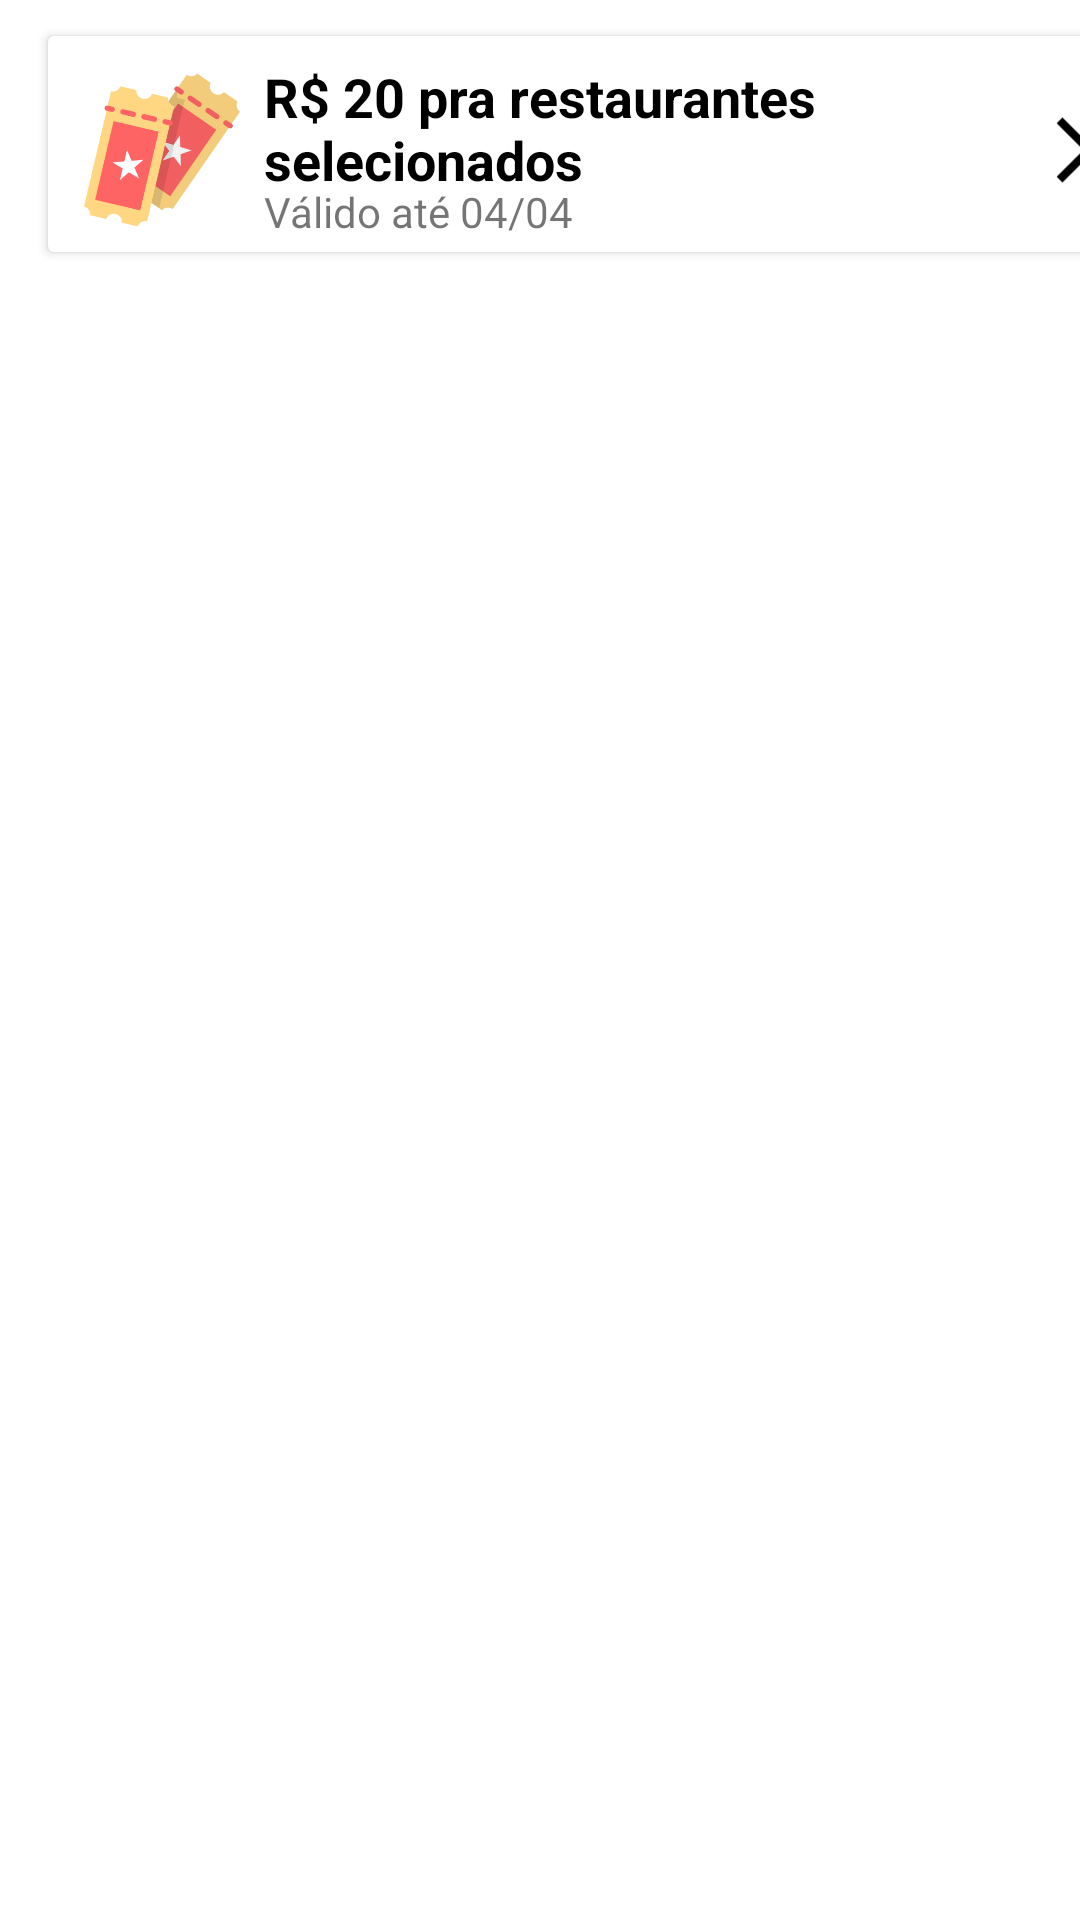

Where icons sit on this 1080px×1920px app screen, as (x1, y1, x2, y2):
ticket: (84, 73, 240, 227)
